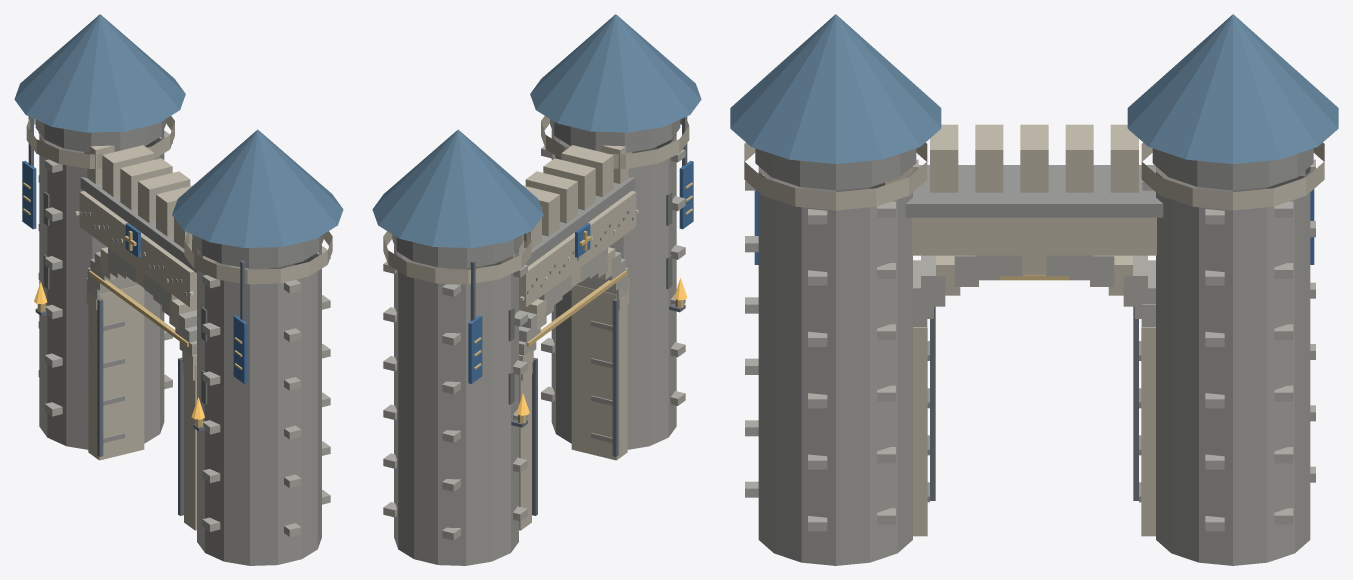
Rendered from siege-gatehouse.glb.
The picture shows the model from 3 angles, left to right: view 1: azimuth 30°, elevation 25°; view 2: azimuth 150°, elevation 25°; view 3: azimuth 270°, elevation 25°; orthographic projection. The views are drawn at different scales.
Visible parts, largest first — view 1: Stone Gatehouse Insert; view 2: Stone Gatehouse Insert; view 3: Stone Gatehouse Insert.
Boxes of the visible parts, x1,y1,x2,y2 form: Stone Gatehouse Insert: (14,14,343,565); Stone Gatehouse Insert: (372,14,701,565); Stone Gatehouse Insert: (730,14,1338,565).
Size of the model in its own units: 9.6 by 25.3 by 26.96.
